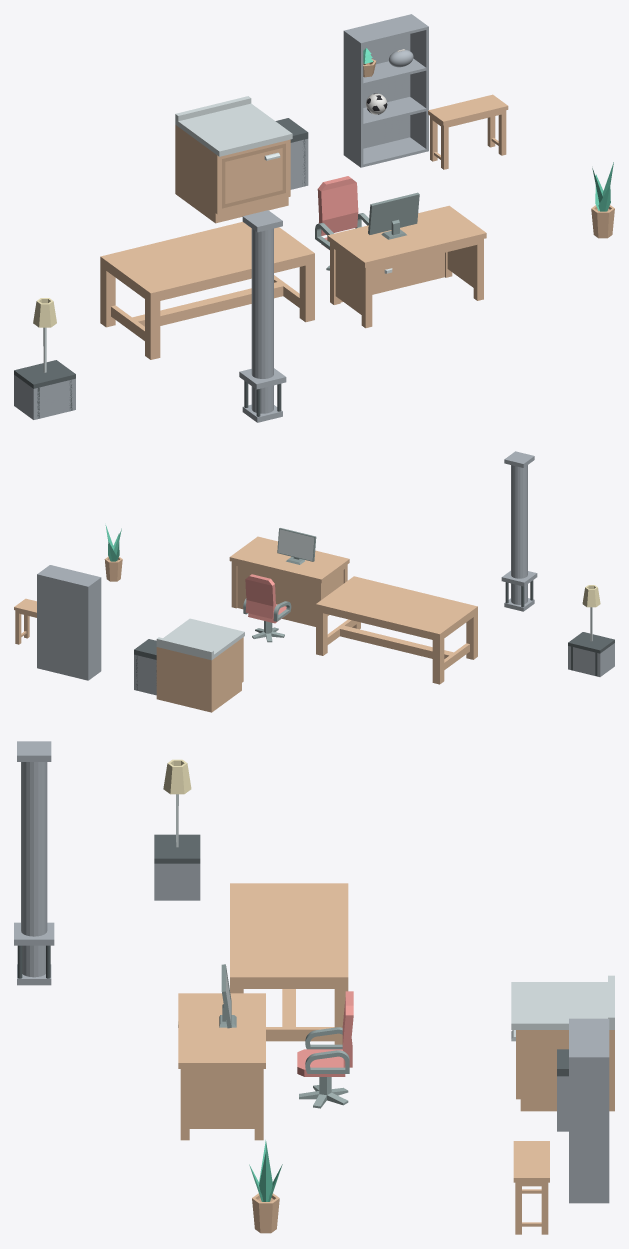
3 renders of one model, top to bottom at view 1: azimuth 30°, elevation 25°; view 2: azimuth 150°, elevation 25°; view 3: azimuth 270°, elevation 25°, orthographic. The views are drawn at different scales.
Visible parts, largest first — view 1: table_green__table(Clone), desk_blue__desk(Clone), cabinet_blue__kitchenCabinet(Clone), column_cyan__column_cyan shaft, cabinet_blue__door, sidetable_brown__sideTable(Clone), shelf_orange__shelf_orange back, shelf_orange__shelf_orange side_l, deskchair_black__chair, crate_red__crate_red shell, shelf_orange__shelf_orange side_r, monitor_gray__computerScreen(Clone) (+9 smaller); view 2: table_green__table(Clone), cabinet_blue__kitchenCabinet(Clone), desk_blue__desk(Clone), shelf_orange__shelf_orange back, column_cyan__column_cyan shaft, deskchair_black__chair, shelf_orange__shelf_orange side_l, monitor_gray__computerScreen(Clone), crate_red__crate_red shell, bin_gray__bin_gray shell, sidetable_brown__sideTable(Clone), crate_red__crate_red lid (+3 smaller); view 3: table_green__table(Clone), desk_blue__desk(Clone), cabinet_blue__kitchenCabinet(Clone), shelf_orange__shelf_orange side_r, column_cyan__column_cyan shaft, sidetable_brown__sideTable(Clone), deskchair_black__chair, crate_red__crate_red shell, crate_red__crate_red lid, shelf_orange__shelf_orange board3, lamp_white__lampRoundFloor(Clone), plant_pink__pottedPlant(Clone) (+5 smaller).
Part boxes in pixels (x1=…): table_green__table(Clone): x1=100, y1=221, x2=314, y2=359; desk_blue__desk(Clone): x1=327, y1=205, x2=486, y2=328; cabinet_blue__kitchenCabinet(Clone): x1=175, y1=96, x2=292, y2=223; column_cyan__column_cyan shaft: x1=251, y1=228, x2=273, y2=413; cabinet_blue__door: x1=222, y1=143, x2=285, y2=208; sidetable_brown__sideTable(Clone): x1=428, y1=94, x2=508, y2=169; shelf_orange__shelf_orange back: x1=346, y1=15, x2=410, y2=148; shelf_orange__shelf_orange side_l: x1=343, y1=30, x2=363, y2=167; deskchair_black__chair: x1=315, y1=176, x2=368, y2=249; crate_red__crate_red shell: x1=14, y1=375, x2=75, y2=419; shelf_orange__shelf_orange side_r: x1=409, y1=14, x2=428, y2=151; monitor_gray__computerScreen(Clone): x1=368, y1=192, x2=419, y2=239; table_green__table(Clone): x1=316, y1=576, x2=477, y2=684; cabinet_blue__kitchenCabinet(Clone): x1=156, y1=618, x2=244, y2=712; desk_blue__desk(Clone): x1=229, y1=536, x2=349, y2=626; shelf_orange__shelf_orange back: x1=39, y1=574, x2=86, y2=679; column_cyan__column_cyan shaft: x1=511, y1=465, x2=527, y2=604; deskchair_black__chair: x1=243, y1=574, x2=291, y2=623; shelf_orange__shelf_orange side_l: x1=86, y1=577, x2=101, y2=680; monitor_gray__computerScreen(Clone): x1=277, y1=528, x2=316, y2=564; crate_red__crate_red shell: x1=568, y1=643, x2=614, y2=676; bin_gray__bin_gray shell: x1=134, y1=654, x2=156, y2=695; sidetable_brown__sideTable(Clone): x1=14, y1=598, x2=36, y2=644; crate_red__crate_red lid: x1=568, y1=632, x2=614, y2=653; table_green__table(Clone): x1=230, y1=883, x2=348, y2=1044; desk_blue__desk(Clone): x1=178, y1=993, x2=265, y2=1140; cabinet_blue__kitchenCabinet(Clone): x1=511, y1=975, x2=614, y2=1111; shelf_orange__shelf_orange side_r: x1=569, y1=1056, x2=609, y2=1203; column_cyan__column_cyan shaft: x1=21, y1=762, x2=47, y2=977; sidetable_brown__sideTable(Clone): x1=513, y1=1141, x2=549, y2=1234; deskchair_black__chair: x1=297, y1=991, x2=353, y2=1076; crate_red__crate_red shell: x1=154, y1=863, x2=200, y2=900; crate_red__crate_red lid: x1=154, y1=834, x2=200, y2=863; shelf_orange__shelf_orange board3: x1=569, y1=1020, x2=606, y2=1055; lamp_white__lampRoundFloor(Clone): x1=163, y1=759, x2=191, y2=847; plant_pink__pottedPlant(Clone): x1=252, y1=1193, x2=279, y2=1233.
Bounding box in the file's own units: 7.39 × 2.2 × 5.22.
